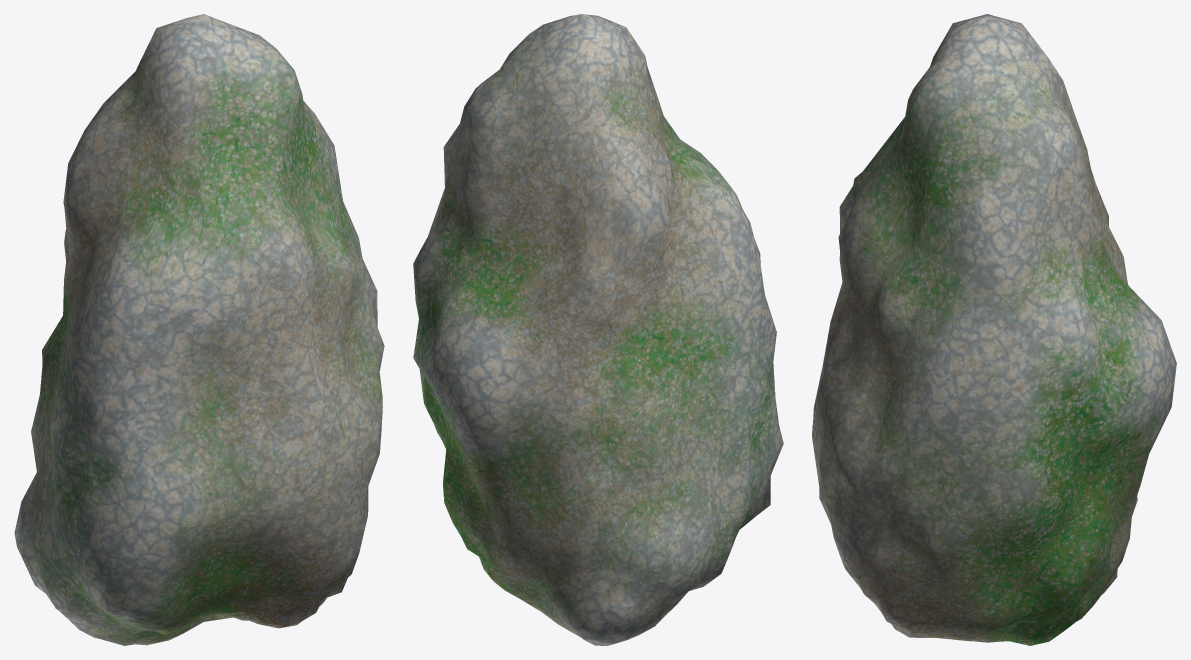
The model's file is obj-stone.obj.
The picture shows the model from 3 angles, left to right: view 1: azimuth 30°, elevation 25°; view 2: azimuth 150°, elevation 25°; view 3: azimuth 270°, elevation 25°; orthographic projection. The views are drawn at different scales.
Parts seen in each view (by area): view 1: Stone_F_3; view 2: Stone_F_3; view 3: Stone_F_3.
Part boxes in pixels (left/top/right/bottom): Stone_F_3: left=14, top=14, right=384, bottom=645; Stone_F_3: left=413, top=14, right=783, bottom=645; Stone_F_3: left=812, top=14, right=1176, bottom=645.
Size of the model in its own units: 67.1 by 125 by 65.64.
